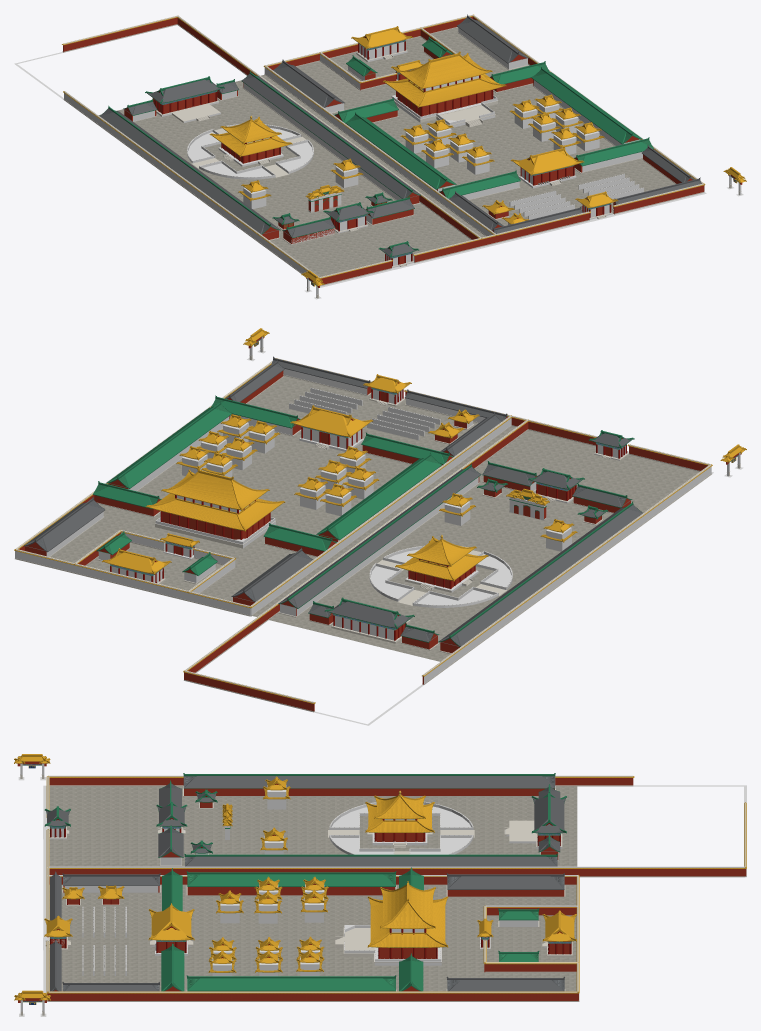
File: kongmiao.glb
3 views of the same model, one above another, from view 1: azimuth 30°, elevation 25°; view 2: azimuth 150°, elevation 25°; view 3: azimuth 270°, elevation 25° (orthographic). The views are drawn at different scales.
Visible parts, largest first — view 1: Temple, Massing, COL_h94, FOOTPRINT_precincts, COL_h85, COL_b58, COL_h92, COL_b24; view 2: Temple, Massing, COL_h94, COL_h85, COL_h84, FOOTPRINT_precincts, CLEAR_clear68, COL_b58, COL_h92; view 3: Temple, Massing, FOOTPRINT_precincts, COL_h92, CLEAR_clear68, COL_h83, COL_b19.
Boxes of the visible parts, x1,y1,x2,y2 form: Temple: (62,14,746,298); Massing: (63,16,745,287); COL_h94: (64,91,319,277); FOOTPRINT_precincts: (188,128,706,287); COL_h85: (264,65,496,236); COL_b58: (243,83,401,199); COL_h92: (177,16,481,237); COL_b24: (534,80,640,145); Temple: (14,328,746,712); Massing: (19,331,743,684); COL_h94: (423,464,711,683); COL_h85: (250,415,511,615); COL_h84: (15,549,250,615); FOOTPRINT_precincts: (371,397,713,604); CLEAR_clear68: (371,549,511,604); COL_b58: (280,477,478,616); COL_h92: (184,419,528,670); Temple: (14,754,746,1015); Massing: (15,757,576,1002); FOOTPRINT_precincts: (43,785,470,993); COL_h92: (48,866,745,867); CLEAR_clear68: (332,807,470,853); COL_h83: (48,991,577,992); COL_b19: (64,886,158,892).
Bounding box in the file's own units: 243 × 25.65 × 313.
Materials: 16 (7 with a texture image).
